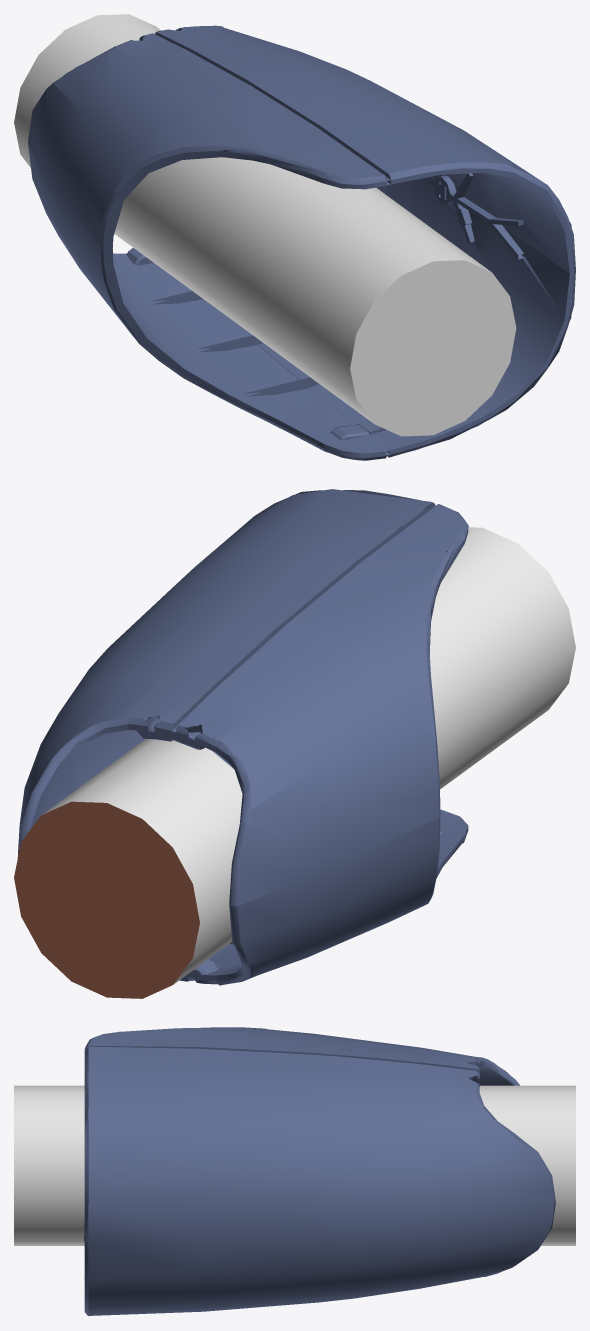
File: icub_r_forearm.glb
3 views of the same model, one above another, from view 1: azimuth 30°, elevation 25°; view 2: azimuth 150°, elevation 25°; view 3: azimuth 270°, elevation 25° (orthographic). The views are drawn at different scales.
Parts seen in each view (by area): view 1: r_forearm_cyl_mesh, r_forearm_mesh, r_forearm_mesh.001; view 2: r_forearm_mesh, r_forearm_mesh.001, r_forearm_cyl_mesh, r_forearm_cyl_mesh.001; view 3: r_forearm_mesh.001, r_forearm_cyl_mesh, r_forearm_mesh.
Boxes of the visible parts, left/top/right/bottom form: r_forearm_cyl_mesh: left=14, top=14, right=516, bottom=436; r_forearm_mesh: left=28, top=33, right=390, bottom=460; r_forearm_mesh.001: left=155, top=25, right=575, bottom=457; r_forearm_mesh: left=171, top=504, right=468, bottom=985; r_forearm_mesh.001: left=17, top=489, right=435, bottom=857; r_forearm_cyl_mesh: left=42, top=527, right=575, bottom=984; r_forearm_cyl_mesh.001: left=14, top=801, right=199, bottom=998; r_forearm_mesh.001: left=84, top=1046, right=555, bottom=1316; r_forearm_cyl_mesh: left=14, top=1085, right=575, bottom=1245; r_forearm_mesh: left=84, top=1027, right=519, bottom=1085.
Size of the model in its own units: 0.0804 by 0.0654 by 0.14.
